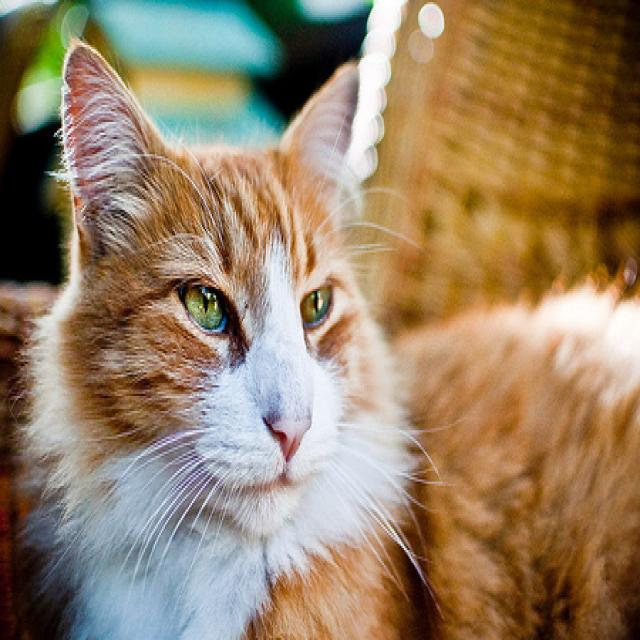Maine Coon: (21, 34, 640, 640)
